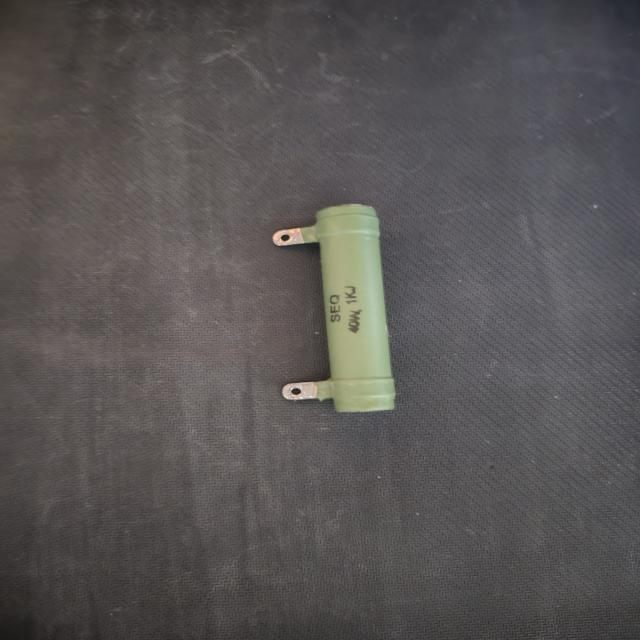resistor: (260, 199, 411, 421)
